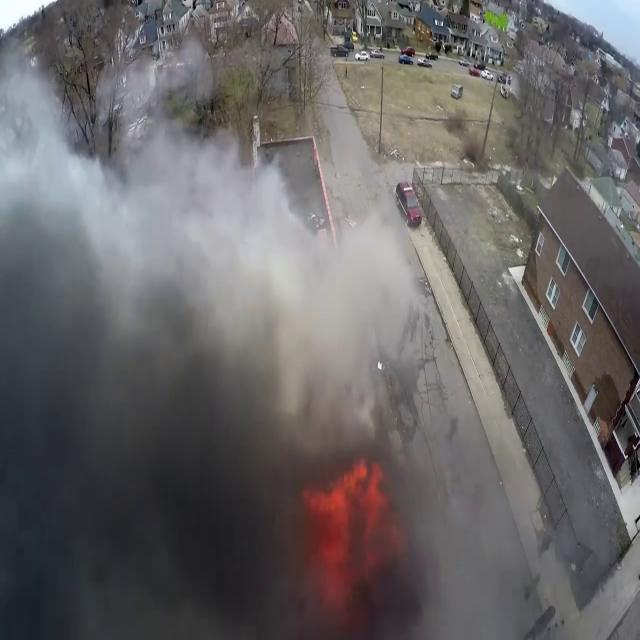Smoke: (1, 26, 423, 640)
